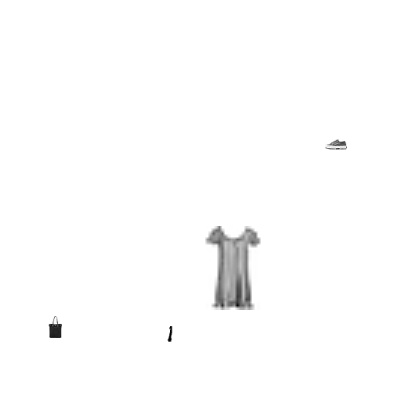1: (159, 323, 181, 345)
Bag: (44, 316, 66, 338)
Dress: (191, 226, 275, 310)
Sneaker: (325, 133, 347, 155)
